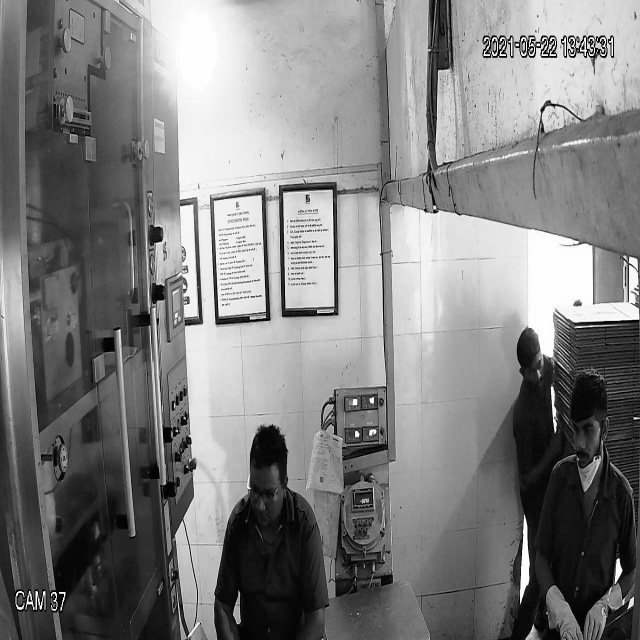Gafas: (246, 481, 283, 507)
Sin_gafas: (571, 414, 604, 443)
